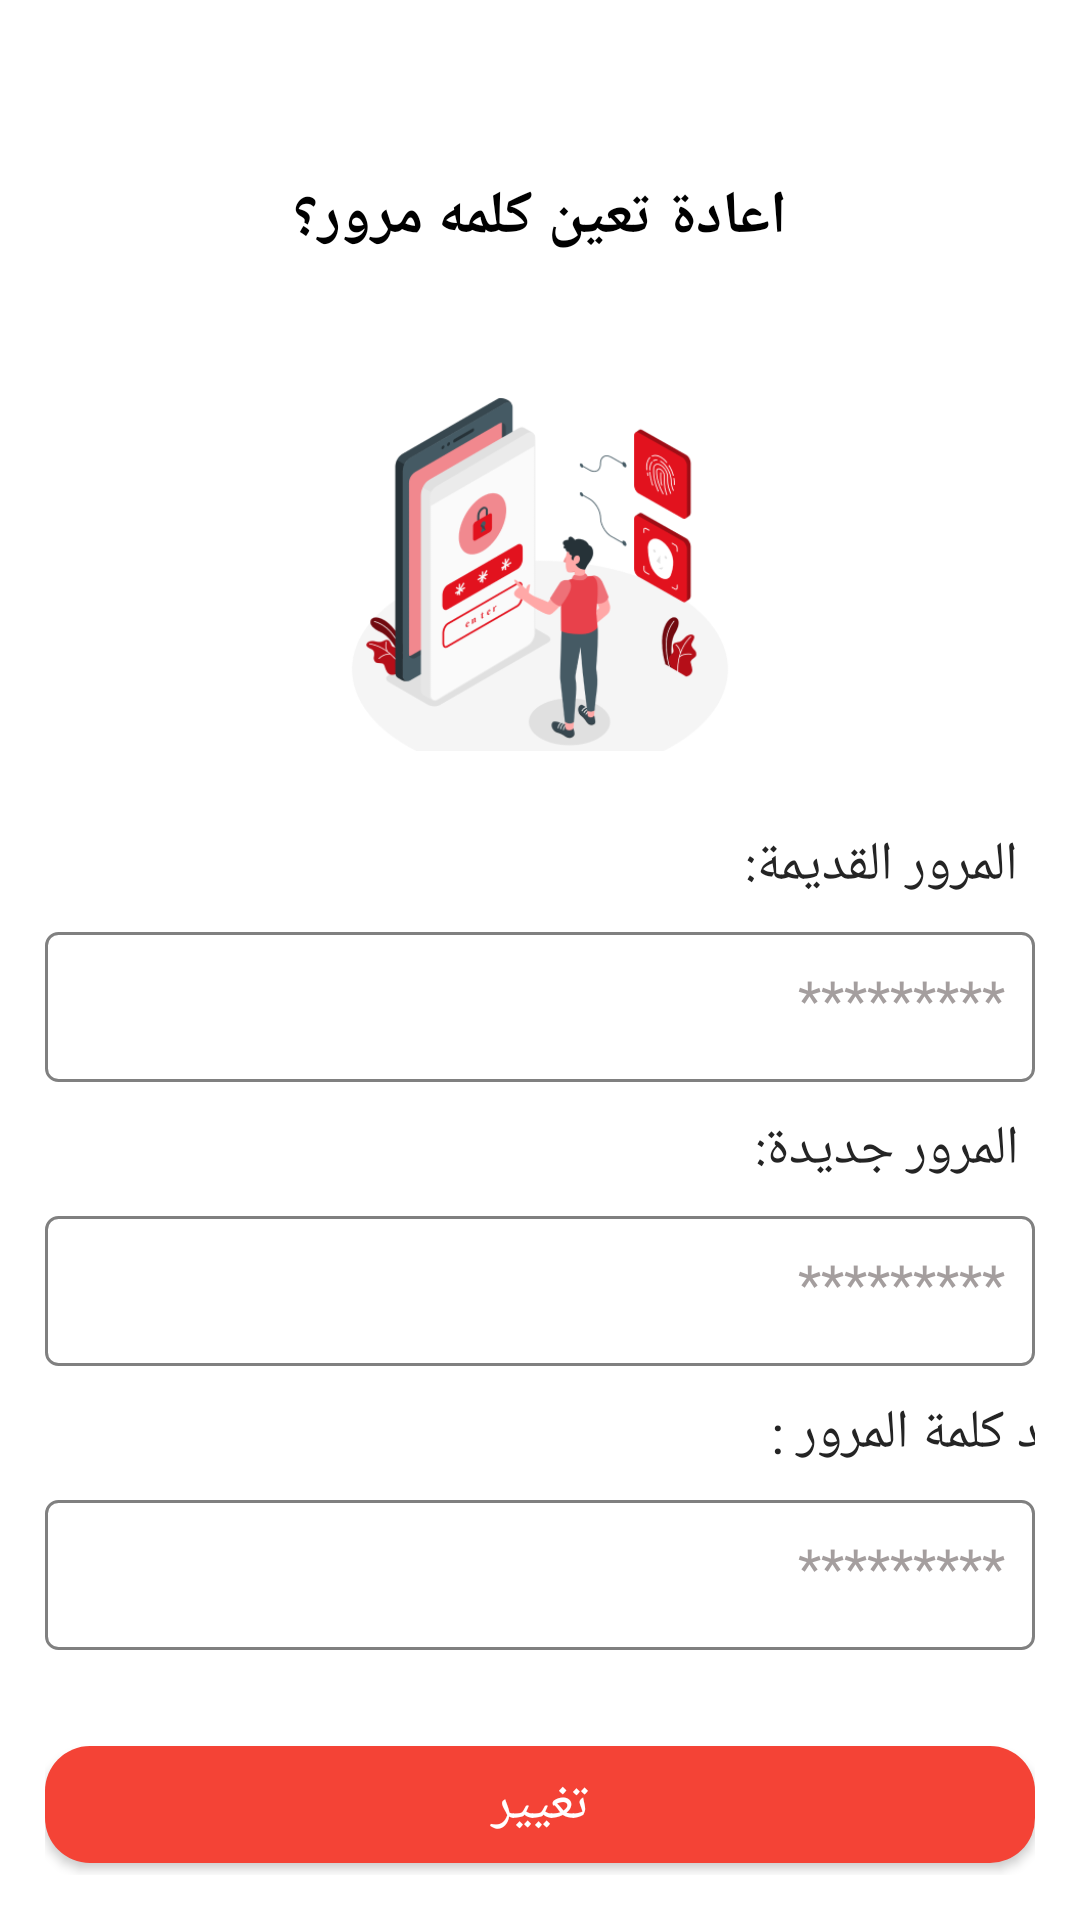

Point at icon controls on the screen. Image size 1080 × 1920, points as (x=x, y=y).
password: (x=531, y=571)
